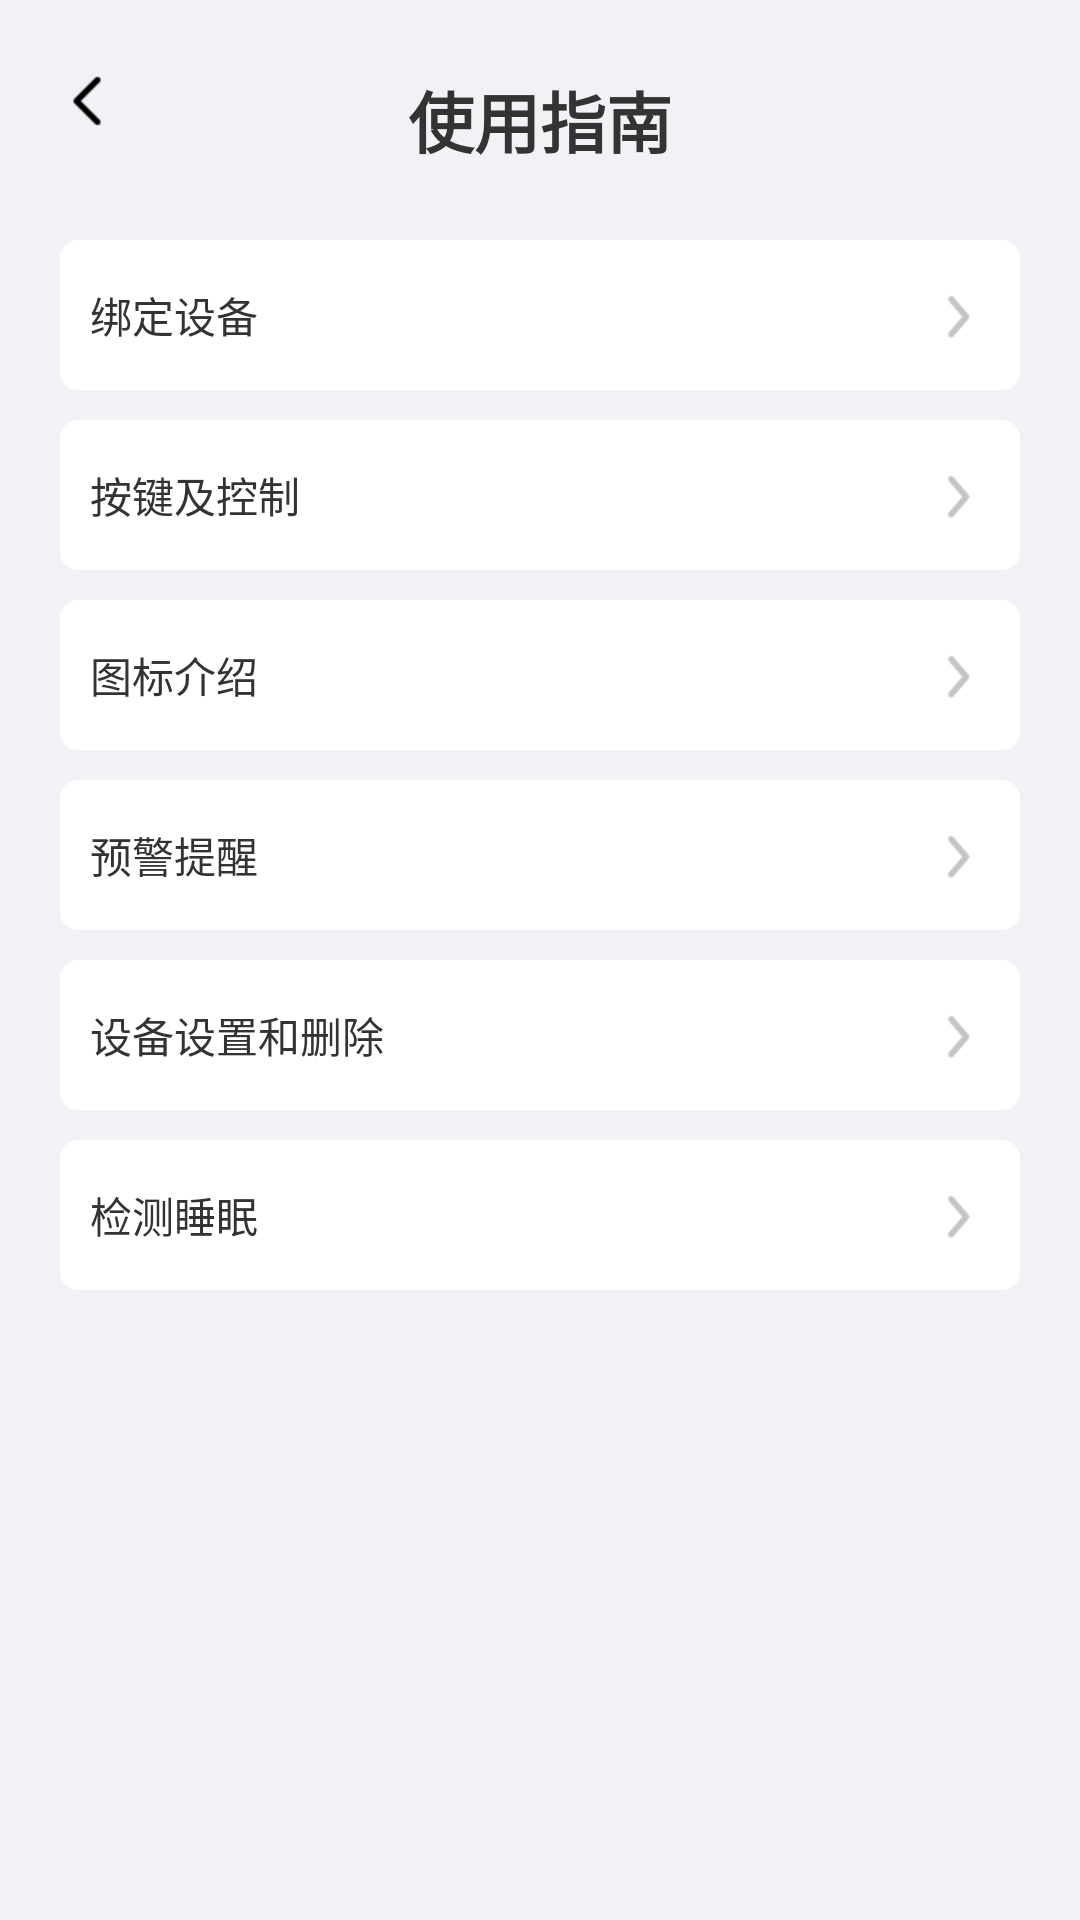

Locate icon controls on the screen. Image size 1080x1920, boxes as [x1, y1, x2, y2].
back: [73, 76, 101, 126]
next: [948, 296, 969, 337], [948, 476, 969, 517], [948, 656, 969, 697], [948, 836, 969, 877], [948, 1016, 969, 1057], [948, 1196, 969, 1237]
